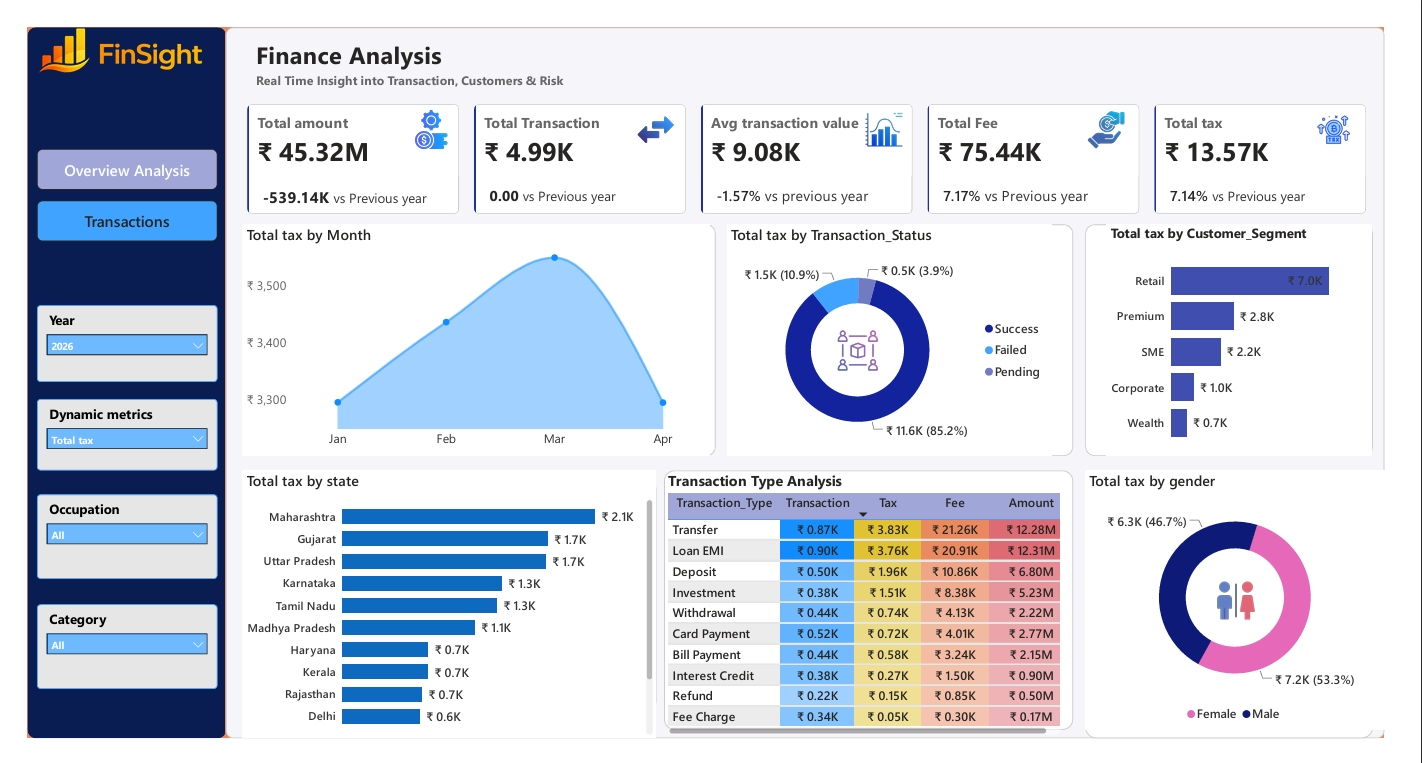

What the dashboard file says about the page in this screenshot:
{"tool":"powerbi","page":{"name":"Overview Analysis ","canvas":[1800,950],"ordinal":0},"visuals":[{"type":"shape","box":[11.5,13.1,257.7,924.1],"z":0},{"type":"shape","box":[269.2,13.1,1506.7,924.1],"z":1000},{"type":"image","box":[0,0,269.2,87],"z":2000},{"type":"cardVisual","fields":{"Data":["customers (2).Dashboard Title"]},"box":[290.5,13.1,830.5,93.6],"z":3000},{"type":"cardVisual","fields":{"Data":["customers (2).Total amount","customers (2).Total Transaction","customers (2).Avg transaction value","customers (2).Total Fee","customers (2).Total tax"]},"box":[290.5,106.7,1470.6,154.3],"z":4000},{"type":"slicer","fields":{"Values":["calendar Table.Yaer"]},"box":[23,374.2,234.7,100.1],"z":5000},{"type":"image","box":[508.8,121.5,54.2,49.2],"z":6000},{"type":"image","box":[801,121.5,54.2,49.2],"z":7000},{"type":"image","box":[1386.9,121.5,54.2,49.2],"z":8000},{"type":"image","box":[1098.1,121.5,54.2,49.2],"z":9000},{"type":"image","box":[1682.4,121.5,54.2,49.2],"z":10000},{"type":"slicer","fields":{"Values":["Dynamic metrics .Dynamic metrics "]},"box":[23,495.7,234.7,93.6],"z":11000},{"type":"shape","box":[290.5,269.2,615,300.4],"z":12000},{"type":"areaChart","fields":{"Y":["customers (2).Total tax"],"Category":["calendar Table.Month"]},"box":[290.5,269.2,608.9,300.4],"z":13000},{"type":"shape","box":[920.8,269.2,450,300.4],"z":14000},{"type":"donutChart","fields":{"Y":["customers (2).Total tax"],"Category":["finance_transactions.transaction_status"]},"box":[920.8,269.2,421.8,300.4],"z":15000},{"type":"shape","box":[1386.9,269.2,374.2,300.4],"z":16000},{"type":"barChart","fields":{"Y":["customers (2).Total tax"],"Category":["customers (2).customer_segment"]},"box":[1414.8,269.2,346.3,300.4],"z":17000},{"type":"shape","box":[290.5,600.7,538.4,300.4],"z":18000},{"type":"barChart","fields":{"Y":["customers (2).Total tax"],"Category":["customers (2).state"]},"box":[290.5,589.2,538.4,348],"z":19000},{"type":"shape","box":[838.7,589.2,531.8,336.5],"z":20000},{"type":"tableEx","title":"Transaction Type Analysis ","fields":{"Values":["finance_transactions.transaction_type","customers (2).Total Transaction","customers (2).Total tax","customers (2).Total Fee","customers (2).Total amount"]},"box":[838.7,589.2,520.3,348],"z":21000},{"type":"shape","box":[1386.9,589.2,374.2,348],"z":22000},{"type":"pieChart","fields":{"Y":["customers (2).Total tax"],"Category":["customers (2).gender"]},"box":[1386.9,589.2,389,336.5],"z":23000},{"type":"image","box":[1057,405.4,67.3,55.8],"z":24000},{"type":"image","box":[1549.4,730.4,67.3,55.8],"z":25000},{"type":"slicer","fields":{"Values":["customers (2).occupation"]},"box":[23,620.4,234.7,110],"z":26000},{"type":"slicer","fields":{"Values":["finance_transactions.merchant_category"]},"box":[23,763.2,234.7,110],"z":27000},{"type":"pageNavigator","box":[23,170.7,234.7,119.8],"z":27001}]}

Visuals, with their boxes in screenshot pixels (x1, y1, x2, y2), scaled from the page's 1800x950 canvas onto the 1422x763 screenshot:
shape: 9/11/213/753
shape: 213/11/1403/753
image: 0/0/213/70
cardVisual - customers (2).Dashboard Title: 229/11/886/86
cardVisual - customers (2).Total amount x customers (2).Total Transaction: 229/86/1391/210
slicer - calendar Table.Yaer: 18/301/204/381
image: 402/98/445/137
image: 633/98/676/137
image: 1096/98/1138/137
image: 867/98/910/137
image: 1329/98/1372/137
slicer - Dynamic metrics .Dynamic metrics : 18/398/204/473
shape: 229/216/715/457
areaChart - customers (2).Total tax x calendar Table.Month: 229/216/711/457
shape: 727/216/1083/457
donutChart - customers (2).Total tax x finance_transactions.transaction_status: 727/216/1061/457
shape: 1096/216/1391/457
barChart - customers (2).Total tax x customers (2).customer_segment: 1118/216/1391/457
shape: 229/482/655/724
barChart - customers (2).Total tax x customers (2).state: 229/473/655/753
shape: 663/473/1083/743
"Transaction Type Analysis " tableEx: 663/473/1074/753
shape: 1096/473/1391/753
pieChart - customers (2).Total tax x customers (2).gender: 1096/473/1403/743
image: 835/326/888/370
image: 1224/587/1277/631
slicer - customers (2).occupation: 18/498/204/587
slicer - finance_transactions.merchant_category: 18/613/204/701
pageNavigator: 18/137/204/233
